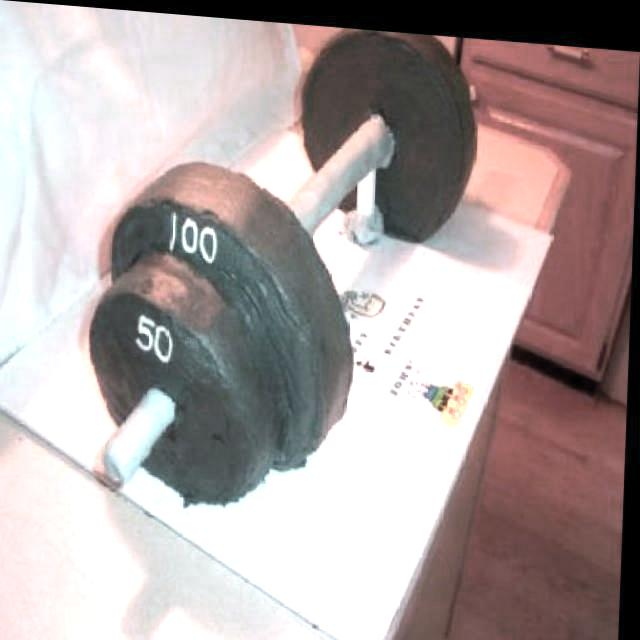barbell: (81, 282, 275, 530)
